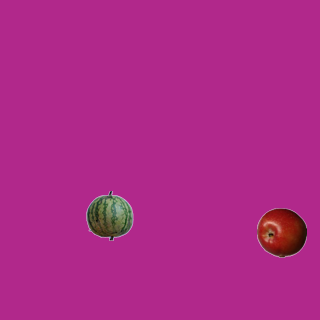Apple Braeburn: (256, 207, 306, 257)
Watermelon: (84, 190, 134, 240)
